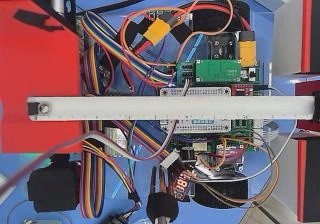ironball: (38, 102, 48, 114)
